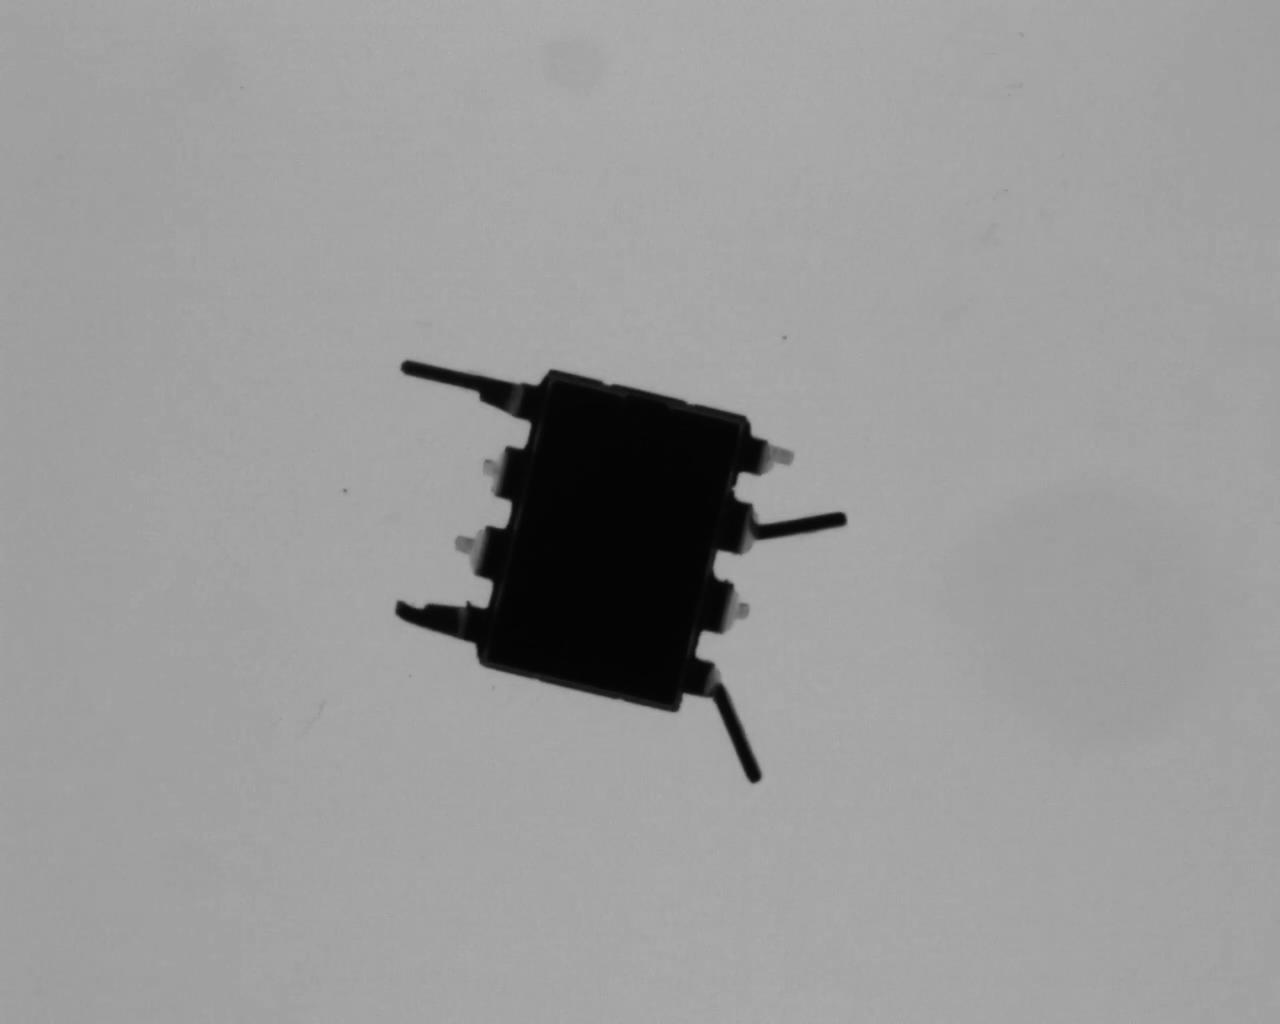Leg: (392, 354, 540, 433), (686, 650, 765, 790), (731, 493, 855, 556), (392, 599, 490, 649), (463, 446, 537, 503), (739, 423, 809, 482), (711, 576, 766, 649), (439, 520, 508, 579)
